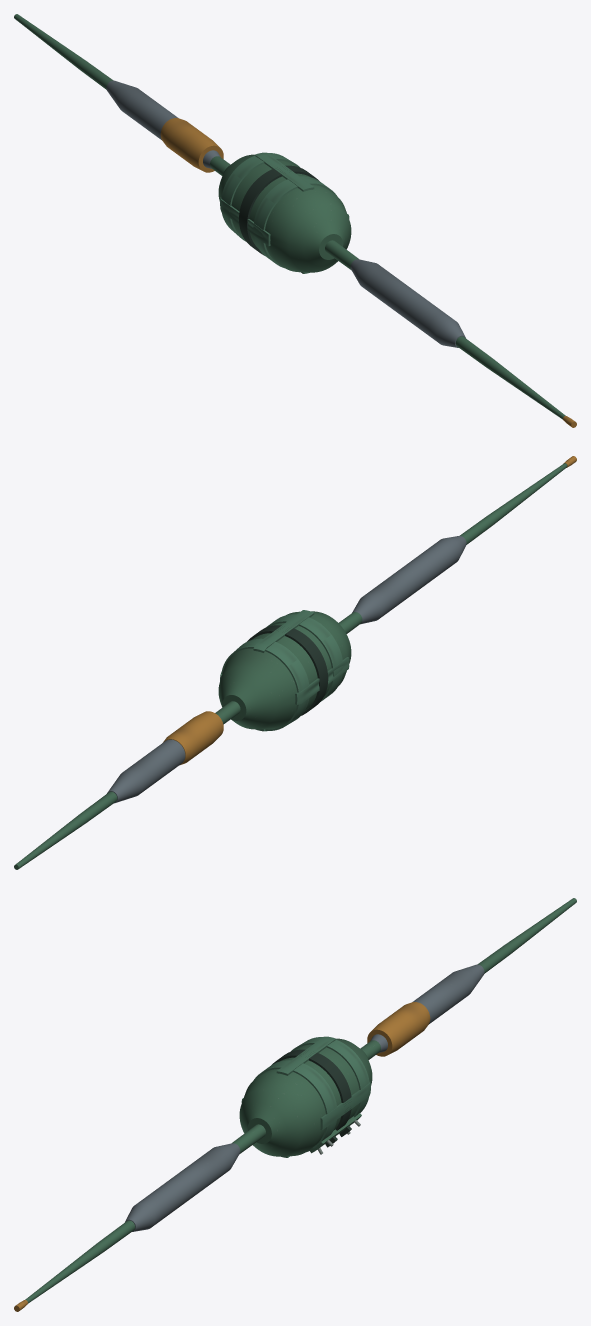
3 renders of one model, top to bottom at view 1: azimuth 30°, elevation 25°; view 2: azimuth 150°, elevation 25°; view 3: azimuth 330°, elevation 25°, orthographic.
Parts seen in each view (by area): view 1: Mikotaj Shri-Sharir green central body, Mikotaj Shri-Sharir grey forward section, Mikotaj Shri-Sharir green axial spine, Mikotaj Shri-Sharir grey rear section, Mikotaj Shri-Sharir orange rear coupling, Mikotaj Shri-Sharir centre band 0, Mikotaj Shri-Sharir centre band 1, Mikotaj Shri-Sharir centre band 2, Mikotaj Shri-Sharir pale longitudinal casting 3, Mikotaj Shri-Sharir pale longitudinal casting 2; view 2: Mikotaj Shri-Sharir green central body, Mikotaj Shri-Sharir grey forward section, Mikotaj Shri-Sharir green axial spine, Mikotaj Shri-Sharir grey rear section, Mikotaj Shri-Sharir orange rear coupling, Mikotaj Shri-Sharir centre band 2, Mikotaj Shri-Sharir centre band 0, Mikotaj Shri-Sharir centre band 1, Mikotaj Shri-Sharir pale longitudinal casting 3, Mikotaj Shri-Sharir pale longitudinal casting 2; view 3: Mikotaj Shri-Sharir green central body, Mikotaj Shri-Sharir grey forward section, Mikotaj Shri-Sharir green axial spine, Mikotaj Shri-Sharir grey rear section, Mikotaj Shri-Sharir orange rear coupling, Mikotaj Shri-Sharir centre band 0, Mikotaj Shri-Sharir centre band 1, Mikotaj Shri-Sharir centre band 2, Mikotaj Shri-Sharir pale longitudinal casting 0, Mikotaj Shri-Sharir pale longitudinal casting 3.
Part boxes in pixels (left/top/right/bottom): Mikotaj Shri-Sharir green central body: left=218, top=154, right=351, bottom=272; Mikotaj Shri-Sharir grey forward section: left=350, top=259, right=465, bottom=347; Mikotaj Shri-Sharir green axial spine: left=14, top=14, right=565, bottom=419; Mikotaj Shri-Sharir grey rear section: left=106, top=80, right=220, bottom=168; Mikotaj Shri-Sharir orange rear coupling: left=160, top=118, right=223, bottom=172; Mikotaj Shri-Sharir centre band 0: left=253, top=176, right=337, bottom=267; Mikotaj Shri-Sharir centre band 1: left=239, top=165, right=318, bottom=255; Mikotaj Shri-Sharir centre band 2: left=221, top=153, right=299, bottom=241; Mikotaj Shri-Sharir pale longitudinal casting 3: left=253, top=152, right=314, bottom=191; Mikotaj Shri-Sharir pale longitudinal casting 2: left=220, top=197, right=270, bottom=246; Mikotaj Shri-Sharir green central body: left=218, top=611, right=351, bottom=729; Mikotaj Shri-Sharir grey forward section: left=352, top=536, right=466, bottom=624; Mikotaj Shri-Sharir green axial spine: left=14, top=463, right=567, bottom=869; Mikotaj Shri-Sharir grey rear section: left=107, top=739, right=185, bottom=803; Mikotaj Shri-Sharir orange rear coupling: left=163, top=711, right=223, bottom=764; Mikotaj Shri-Sharir centre band 2: left=221, top=638, right=309, bottom=730; Mikotaj Shri-Sharir centre band 0: left=265, top=614, right=343, bottom=701; Mikotaj Shri-Sharir centre band 1: left=247, top=625, right=328, bottom=715; Mikotaj Shri-Sharir pale longitudinal casting 3: left=253, top=610, right=314, bottom=652; Mikotaj Shri-Sharir pale longitudinal casting 2: left=295, top=657, right=349, bottom=704; Mikotaj Shri-Sharir green central body: left=239, top=1038, right=372, bottom=1156; Mikotaj Shri-Sharir grey forward section: left=125, top=1143, right=240, bottom=1231; Mikotaj Shri-Sharir green axial spine: left=25, top=898, right=576, bottom=1303; Mikotaj Shri-Sharir grey rear section: left=370, top=964, right=484, bottom=1052; Mikotaj Shri-Sharir orange rear coupling: left=367, top=1002, right=430, bottom=1056; Mikotaj Shri-Sharir centre band 0: left=253, top=1060, right=336, bottom=1151; Mikotaj Shri-Sharir centre band 1: left=272, top=1049, right=351, bottom=1130; Mikotaj Shri-Sharir centre band 2: left=291, top=1037, right=369, bottom=1117; Mikotaj Shri-Sharir pale longitudinal casting 0: left=320, top=1081, right=370, bottom=1130; Mikotaj Shri-Sharir pale longitudinal casting 3: left=276, top=1036, right=337, bottom=1075.
Size of the model in its own units: 0.168 by 0.168 by 2.
Materials: 6 (4 with a texture image).
